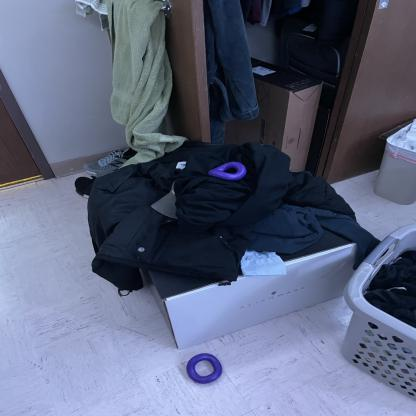ring: (186, 353, 222, 384), (208, 161, 246, 181)
